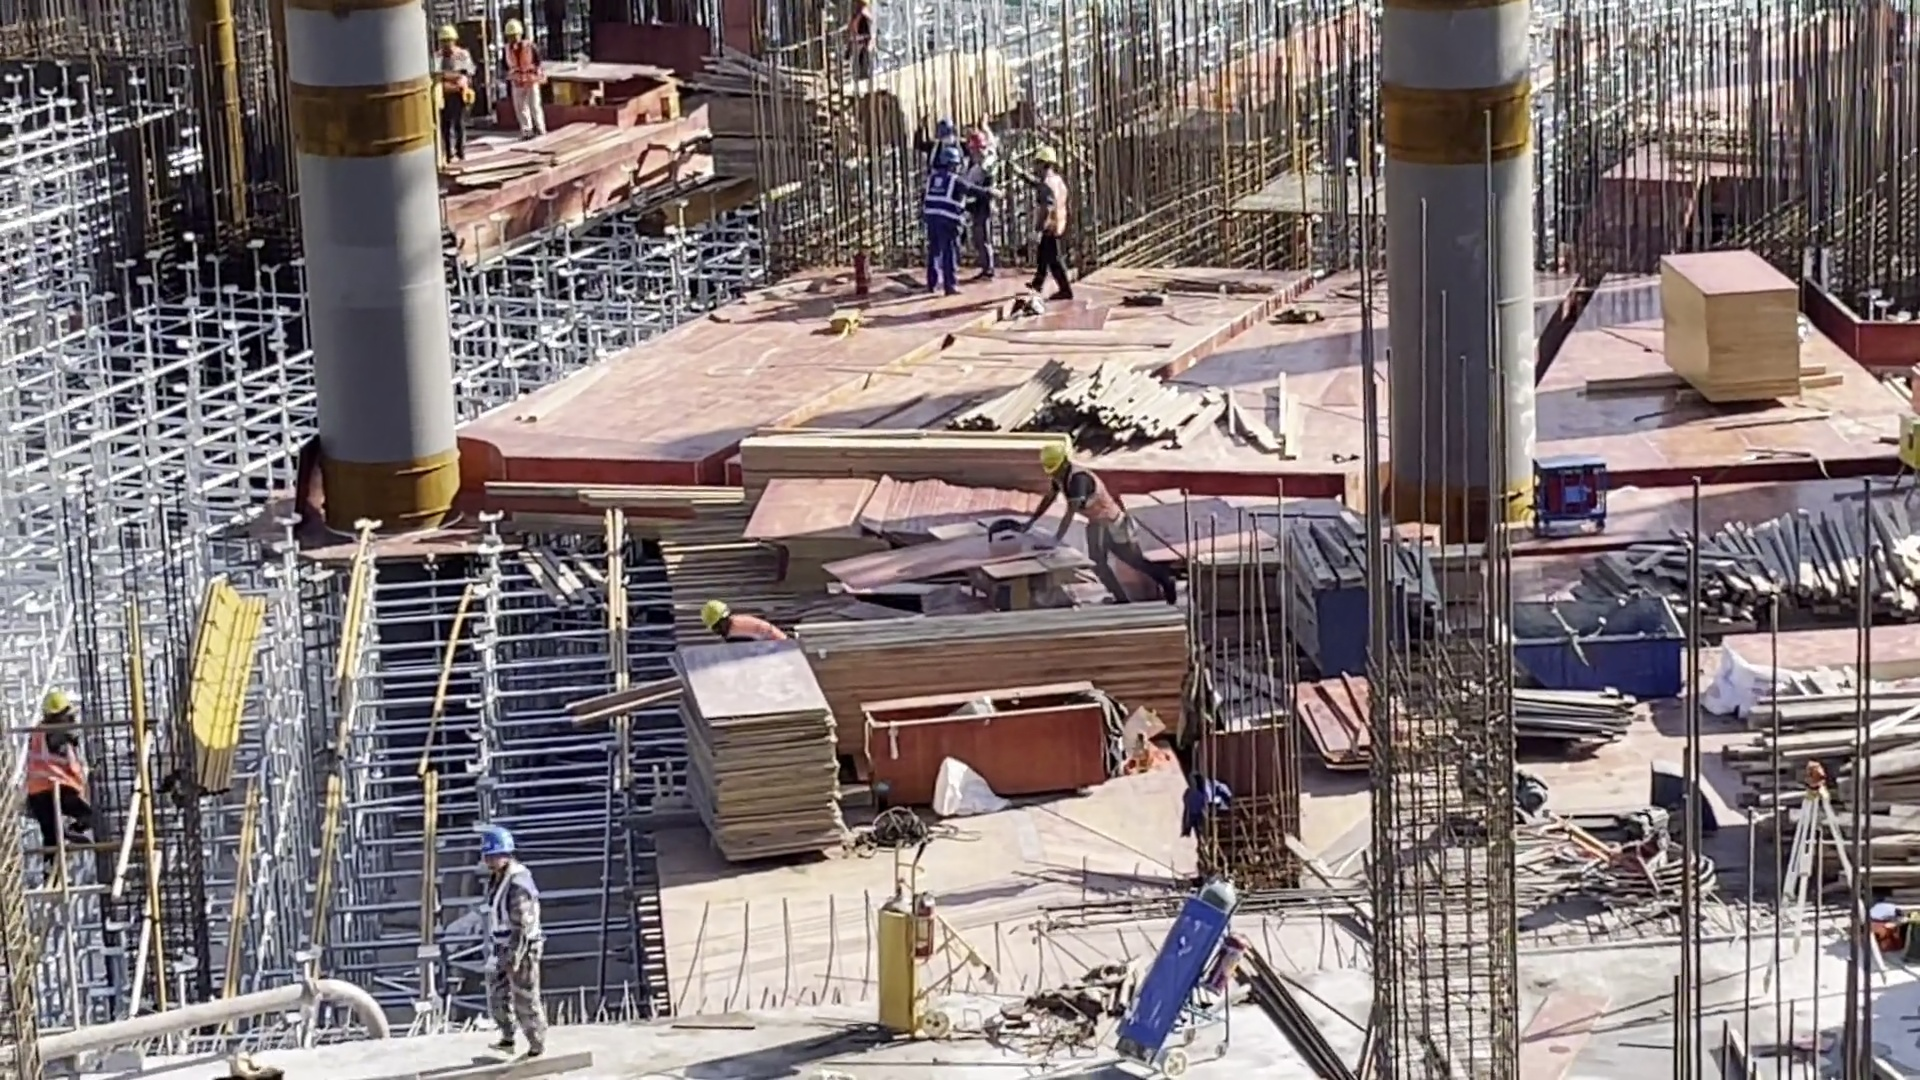board: (661, 642, 835, 860), (1660, 248, 1803, 408), (757, 487, 890, 600), (1293, 674, 1377, 779)
cutter: (934, 513, 1101, 613), (524, 58, 679, 133)
ebox: (1893, 412, 1920, 492)
helmet: (922, 170, 964, 228), (432, 48, 472, 98), (480, 827, 523, 857), (1037, 445, 1069, 482), (698, 596, 729, 628), (938, 145, 962, 168), (43, 692, 70, 714), (498, 18, 525, 40), (434, 24, 461, 43), (931, 120, 956, 140)
hopper: (1503, 593, 1686, 695)
person: (1028, 441, 1155, 609), (464, 823, 547, 1058), (24, 690, 87, 873), (911, 147, 962, 304), (1028, 147, 1078, 303), (429, 20, 475, 158), (494, 20, 541, 142), (964, 114, 997, 273), (695, 596, 785, 648), (846, 1, 876, 58)
vest: (1069, 471, 1137, 545), (486, 869, 536, 967), (28, 727, 84, 791), (492, 39, 537, 91), (1033, 175, 1068, 236), (727, 616, 787, 650), (432, 48, 472, 98)
wood: (1551, 489, 1920, 623), (1728, 659, 1920, 902), (790, 607, 1188, 694), (951, 354, 1294, 452), (740, 428, 1078, 487), (706, 60, 842, 194), (847, 52, 1014, 142)
